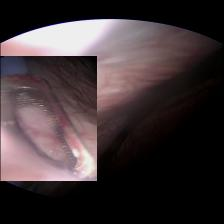Bipolar: (0, 55, 97, 180)
